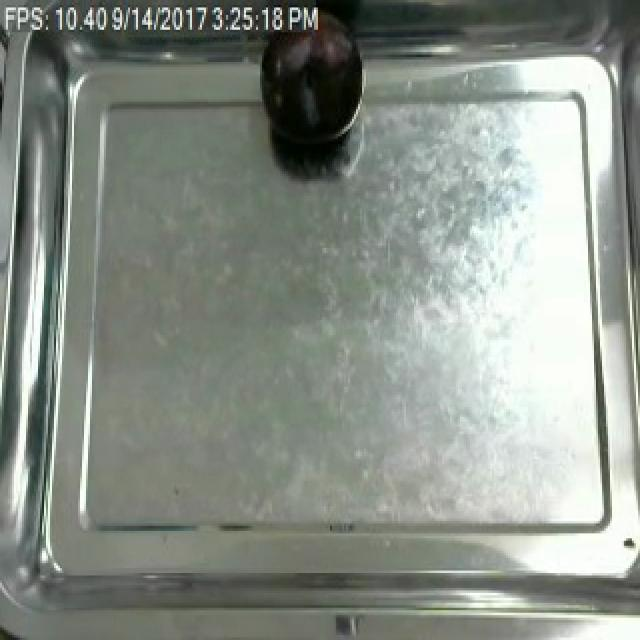Fruit: (252, 0, 368, 159)
